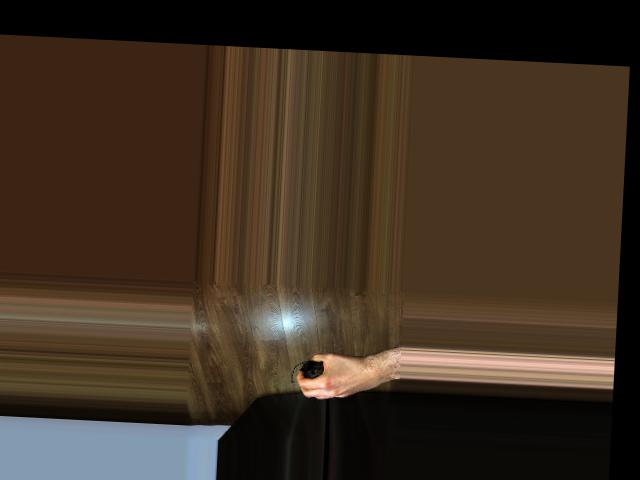beet: (289, 359, 323, 384)
